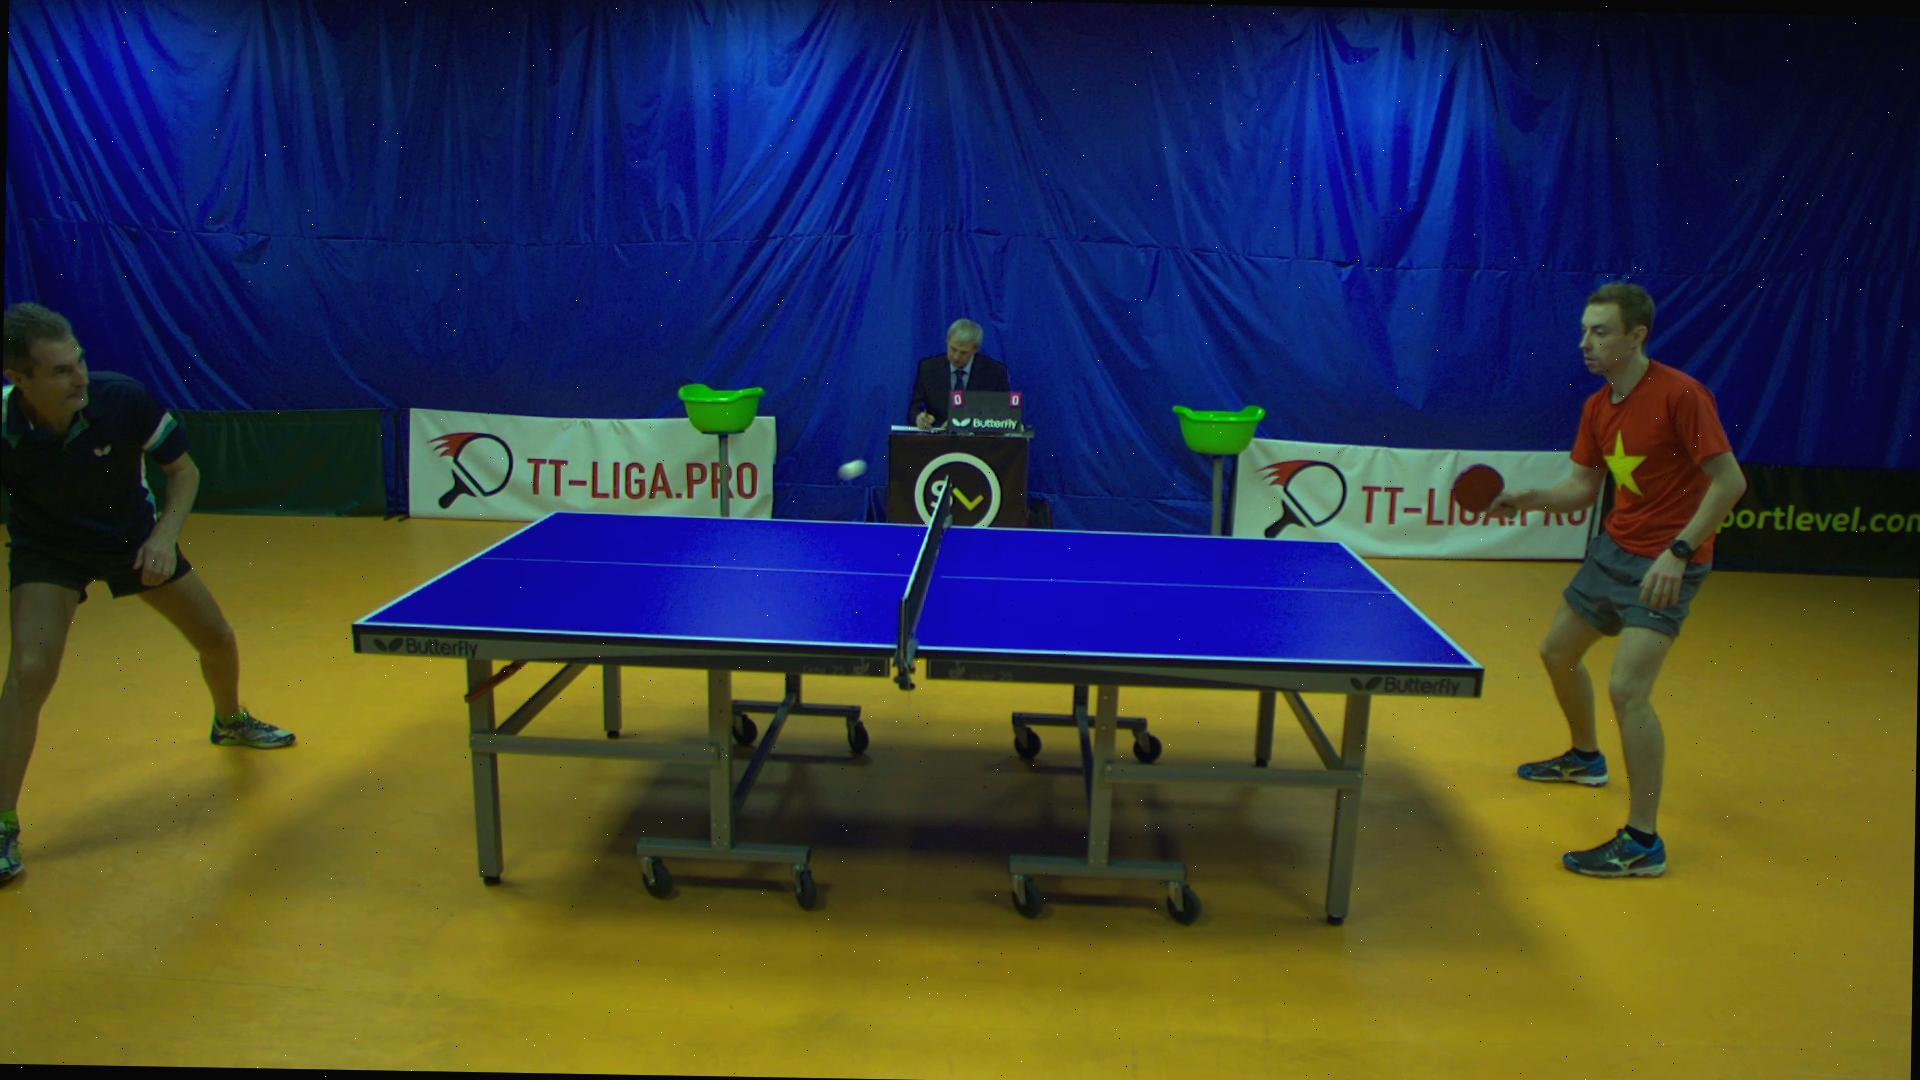ball: (828, 451, 873, 489)
